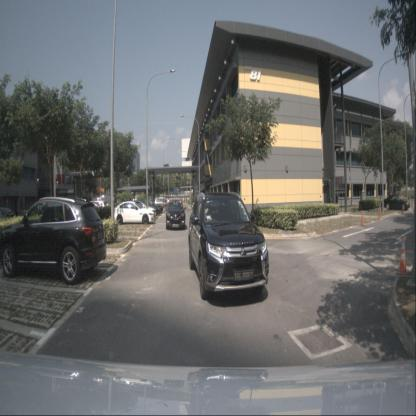movable_object-trafficcone: (397, 237, 408, 276), (361, 211, 365, 226), (378, 208, 381, 220)
vehicle-car: (0, 195, 107, 285), (189, 192, 269, 301), (112, 201, 156, 226), (121, 200, 157, 222), (166, 198, 185, 230), (382, 193, 410, 210), (0, 206, 19, 225), (136, 200, 158, 216), (138, 200, 161, 214), (143, 200, 163, 215), (154, 196, 172, 208), (90, 201, 105, 212), (97, 200, 109, 209)
